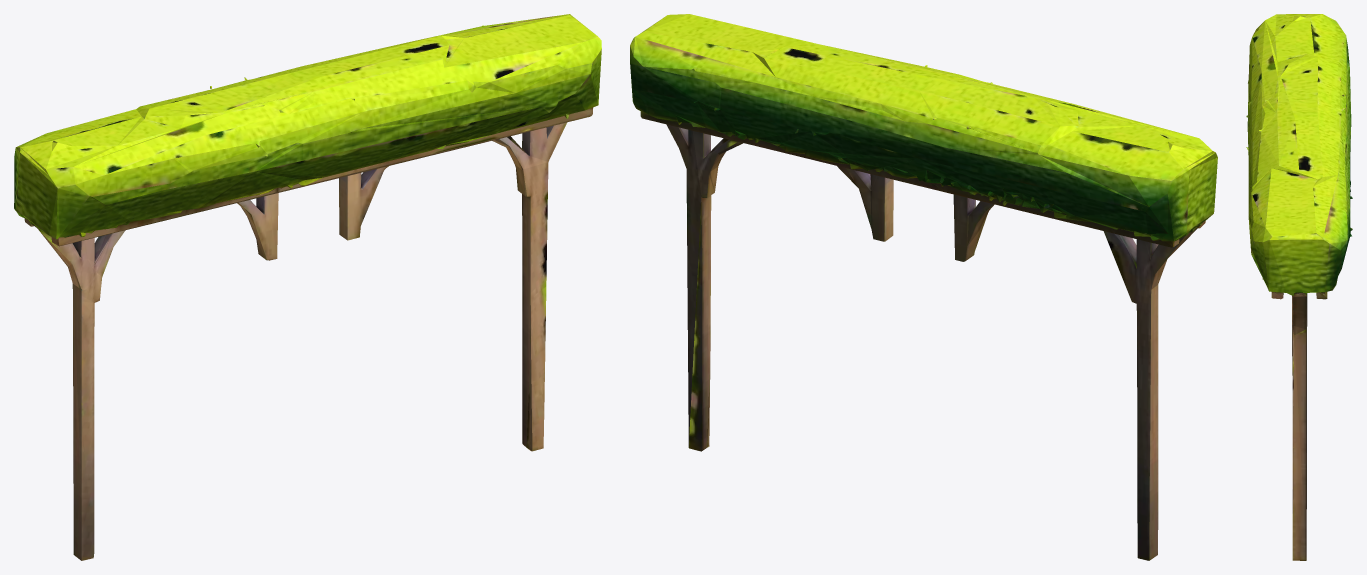
Rendered from nature_bush_03.glb.
3 renders of one model, left to right at view 1: azimuth 30°, elevation 25°; view 2: azimuth 150°, elevation 25°; view 3: azimuth 270°, elevation 25°, orthographic. The views are drawn at different scales.
Visible parts, largest first — view 1: geometry_0; view 2: geometry_0; view 3: geometry_0.
Part boxes in pixels (box(x1,y1,x2,y2)): geometry_0: box(14, 14, 601, 560); geometry_0: box(630, 14, 1217, 560); geometry_0: box(1246, 14, 1352, 560).
Bounding box in the file's own units: 0.9925 × 0.7255 × 0.1985.
1 material, 1 textured.
